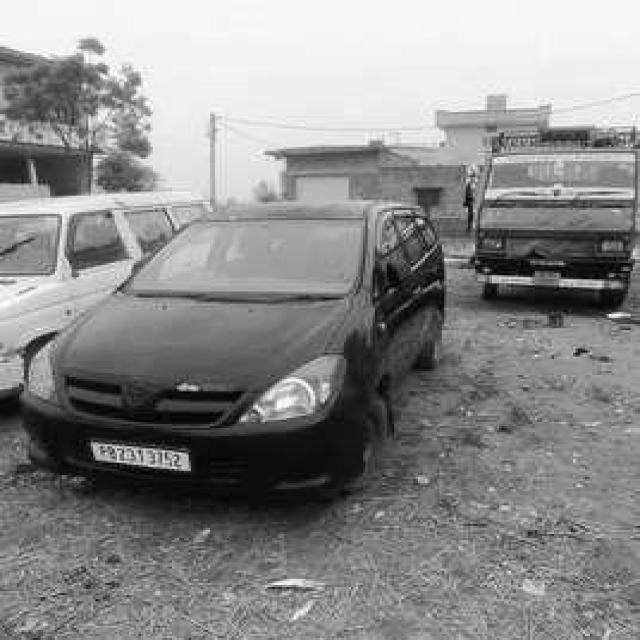car: (19, 194, 454, 506)
license-plate: (86, 438, 193, 473), (532, 271, 564, 290)
truck: (468, 114, 640, 312)
